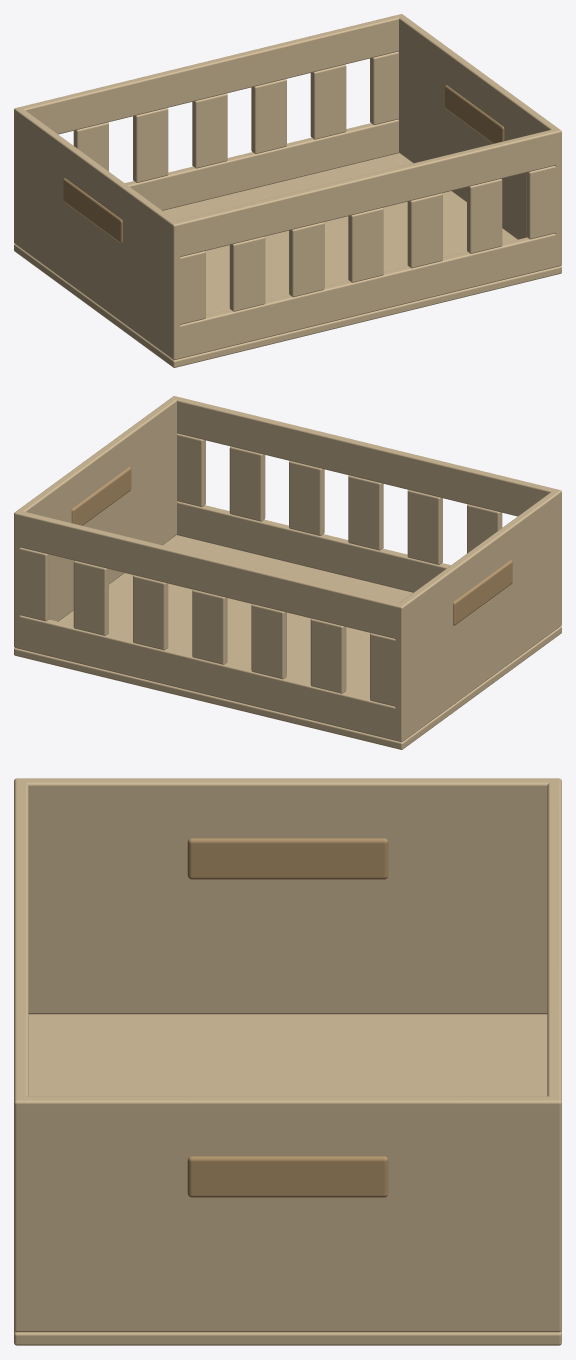
The model's file is mushroom-farm-and-grow-rooms-breathable-produce-carton-8934965c__30846.glb.
3 renders of one model, top to bottom at view 1: azimuth 30°, elevation 25°; view 2: azimuth 150°, elevation 25°; view 3: azimuth 270°, elevation 25°, orthographic. The views are drawn at different scales.
Visible parts, largest first — view 1: breathable-produce-carton; view 2: breathable-produce-carton; view 3: breathable-produce-carton.
Boxes of the visible parts, x1,y1,x2,y2 form: breathable-produce-carton: [14, 14, 561, 367]; breathable-produce-carton: [14, 396, 561, 749]; breathable-produce-carton: [14, 778, 561, 1345].
Size of the model in its own units: 0.424 by 0.148 by 0.3.
